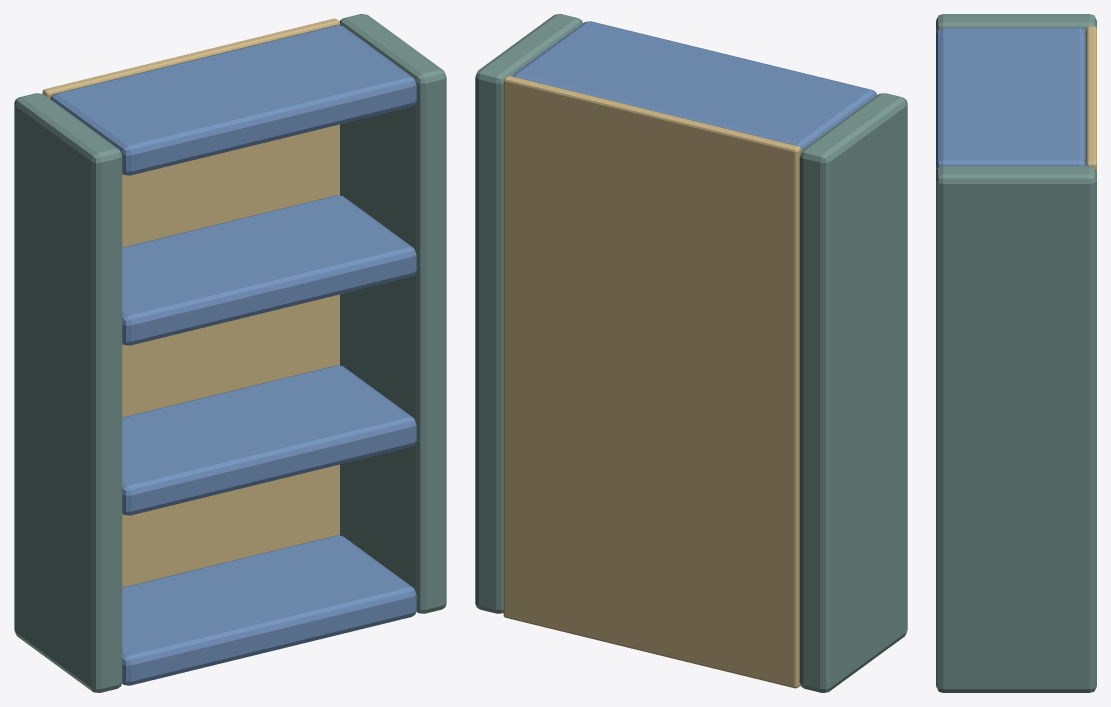
The picture shows the model from 3 angles, left to right: view 1: azimuth 30°, elevation 25°; view 2: azimuth 150°, elevation 25°; view 3: azimuth 270°, elevation 25°; orthographic projection. The views are drawn at different scales.
Parts seen in each view (by area): view 1: Workshop display shelf; view 2: Workshop display shelf; view 3: Workshop display shelf.
Part boxes in pixels (x1,y1,x2,y2): Workshop display shelf: (14, 14, 446, 692); Workshop display shelf: (475, 14, 907, 692); Workshop display shelf: (936, 14, 1096, 692).
Size of the model in its own units: 1.1 by 1.6 by 0.45.
